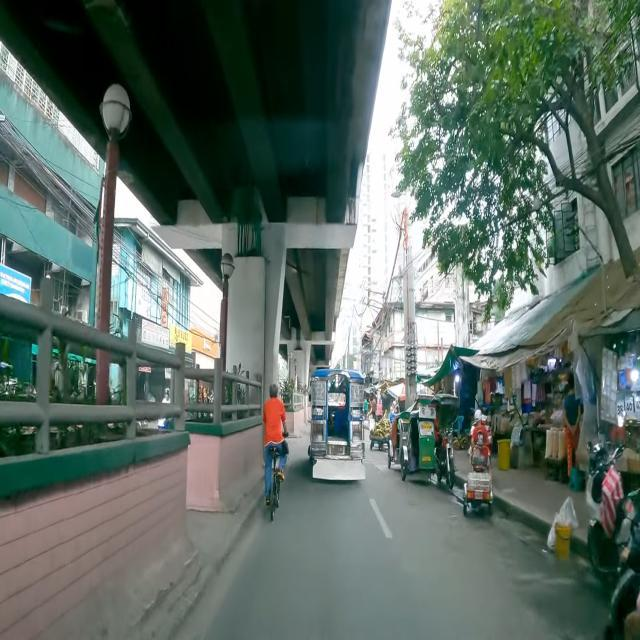bike: (262, 384, 288, 520)
jeepney: (308, 368, 365, 481)
tricycle: (401, 396, 456, 488), (388, 410, 410, 468)
